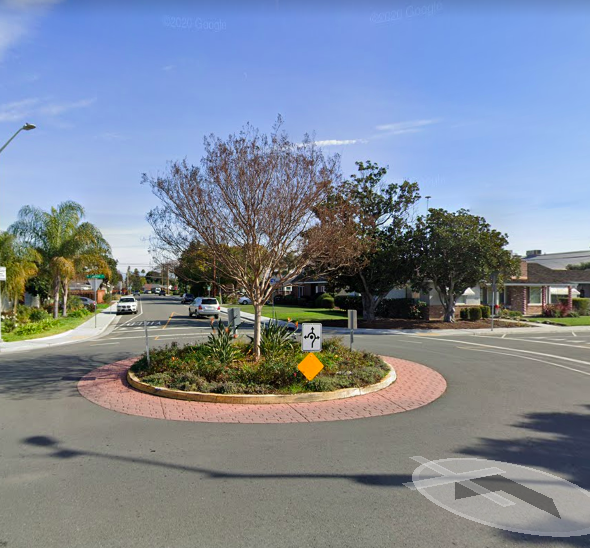tree: (138, 112, 382, 360)
